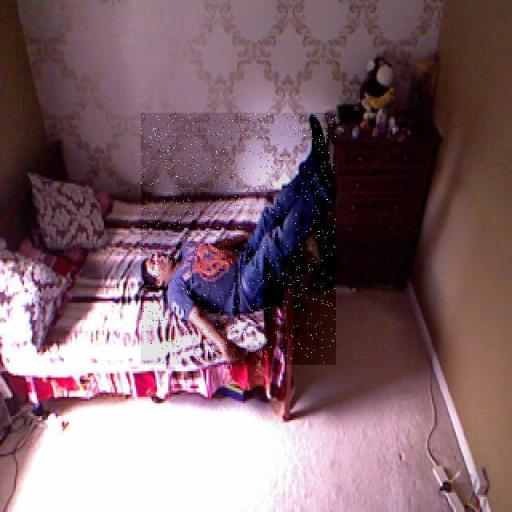Fall: (141, 113, 336, 365)
